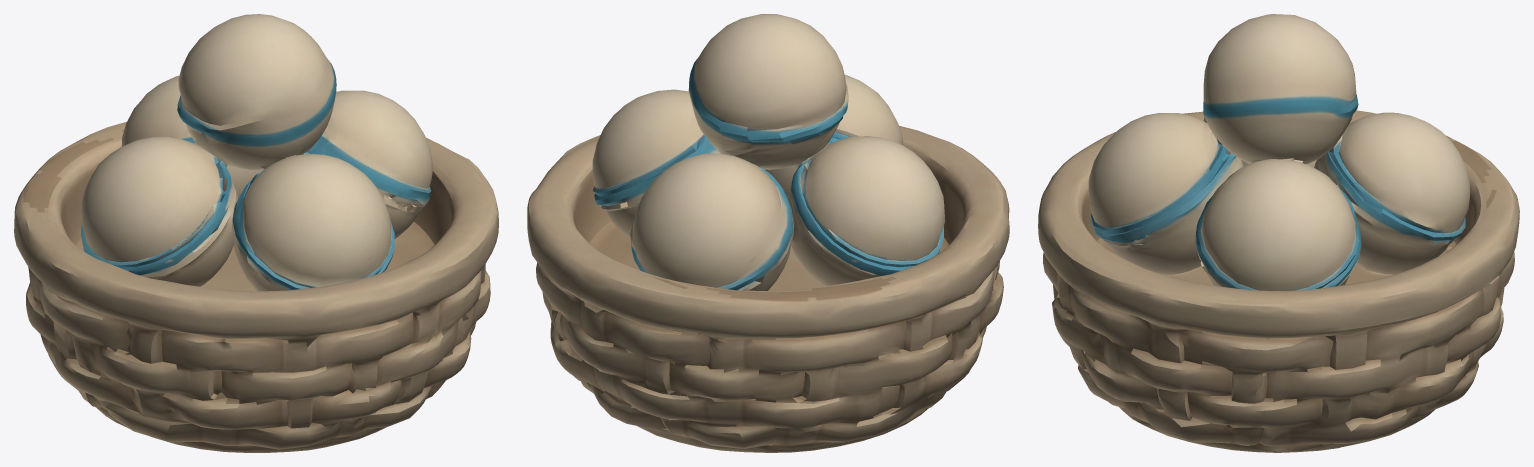
Rendered from harvest_orbcache.glb.
3 renders of one model, left to right at view 1: azimuth 30°, elevation 25°; view 2: azimuth 150°, elevation 25°; view 3: azimuth 270°, elevation 25°, orthographic.
Parts seen in each view (by area): view 1: Mesh_0; view 2: Mesh_0; view 3: Mesh_0.
Part boxes in pixels (<box>): Mesh_0: <box>14,14,498,452</box>; Mesh_0: <box>527,14,1009,452</box>; Mesh_0: <box>1038,14,1519,452</box>.
Bounding box in the file's own units: 1.9 × 1.6 × 1.9.
1 material, 1 textured.
